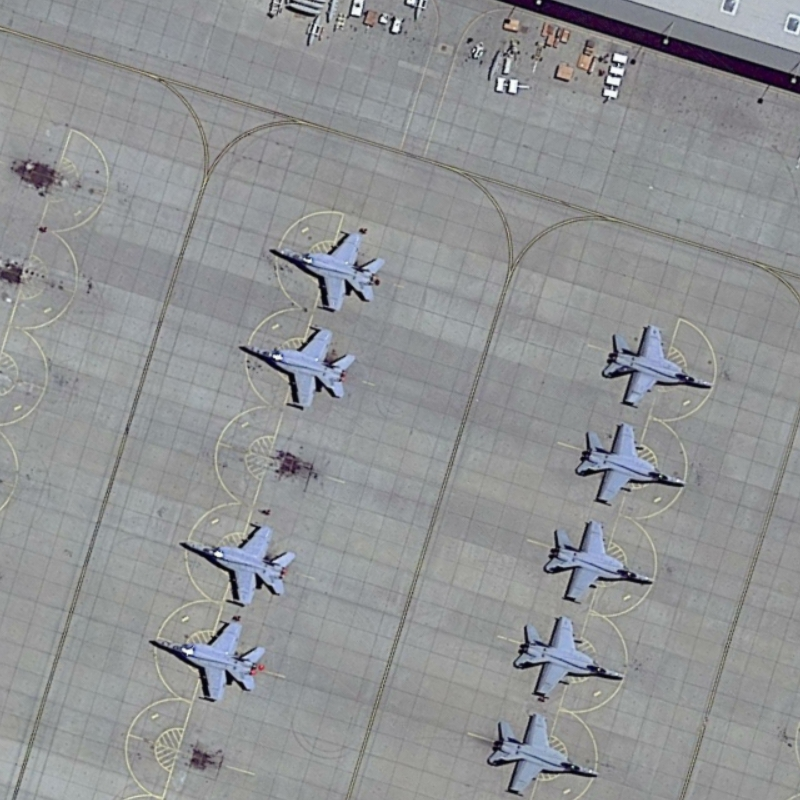A16: (141, 615, 271, 711), (235, 318, 360, 415), (570, 418, 693, 514), (259, 227, 391, 316), (480, 708, 607, 800), (172, 518, 300, 609), (598, 316, 718, 412), (509, 612, 632, 703), (540, 517, 661, 608)
